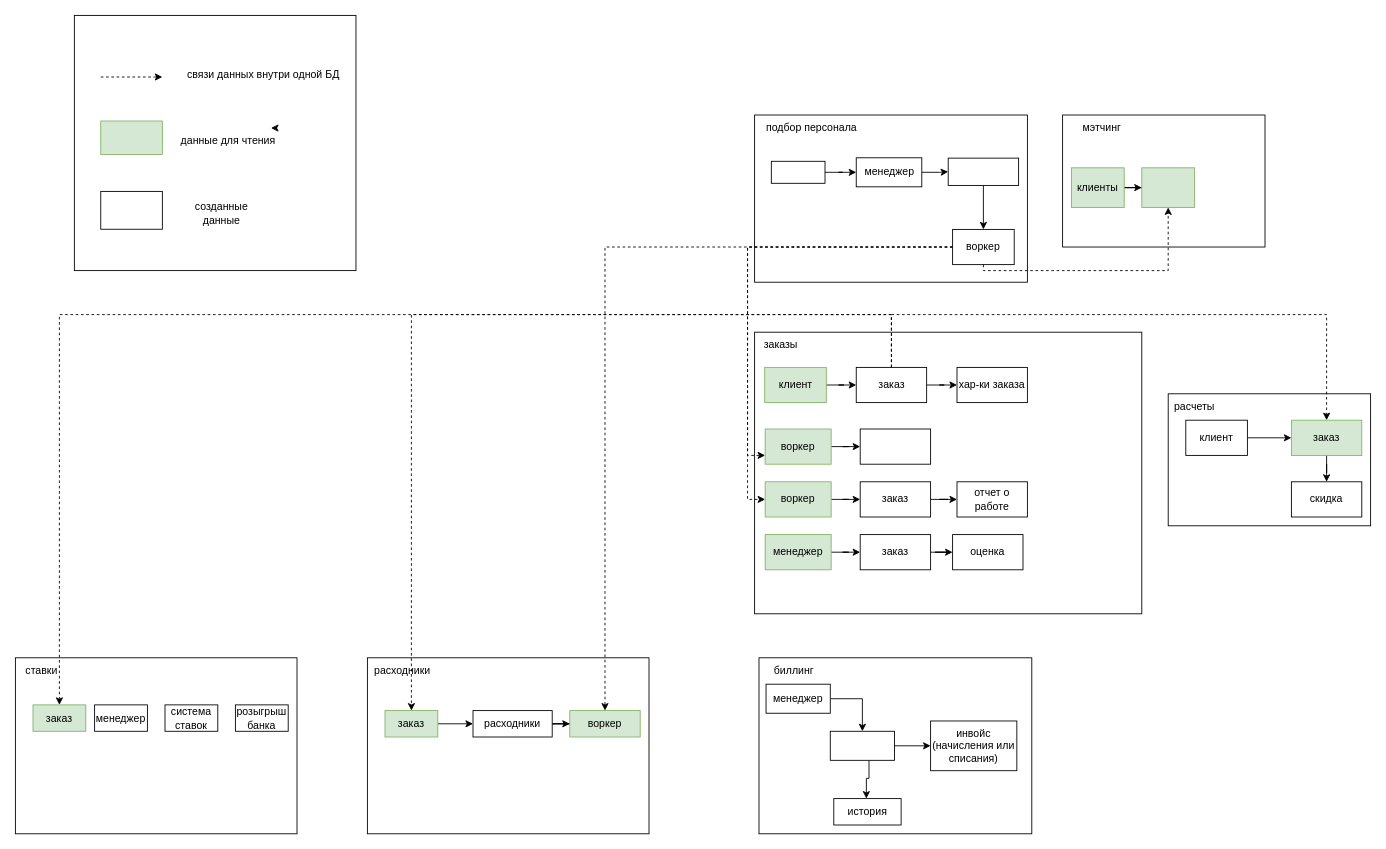
Some shapes in this 1386 by 849 pixel diagram are drawn without their labels. The shapes that lost their labels are listed below. From the top down, each one's centre as x and y in pixels, then its label:
(797,171): заявка
(983,171): тест
(1168,187): воркеры
(895,446): список задач
(862,745): аккаунт
